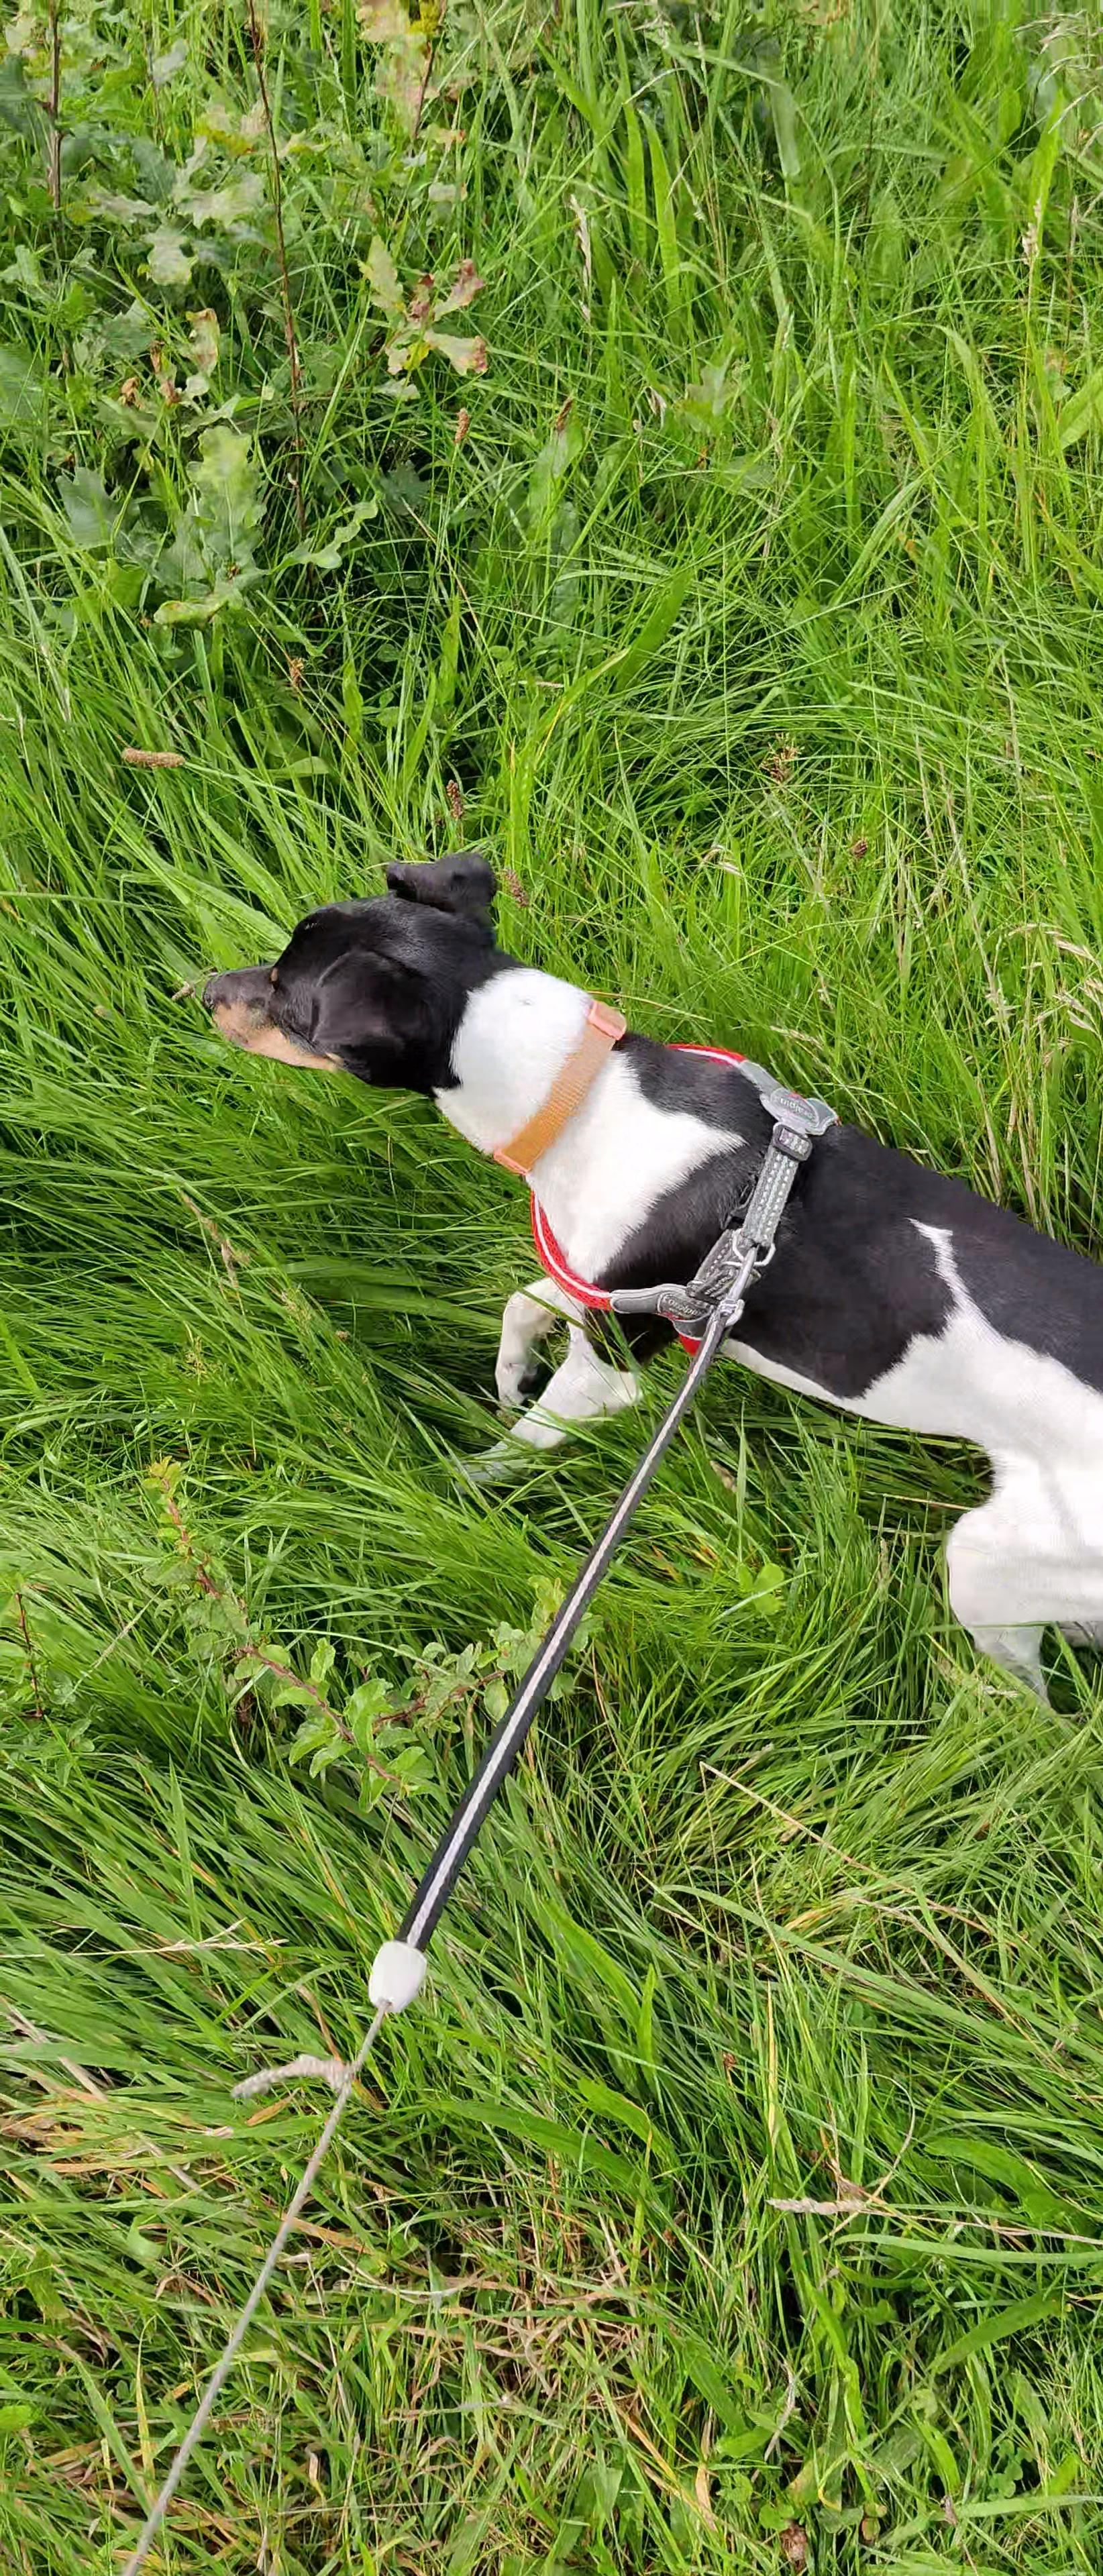Dog: (191, 841, 1103, 1713)
